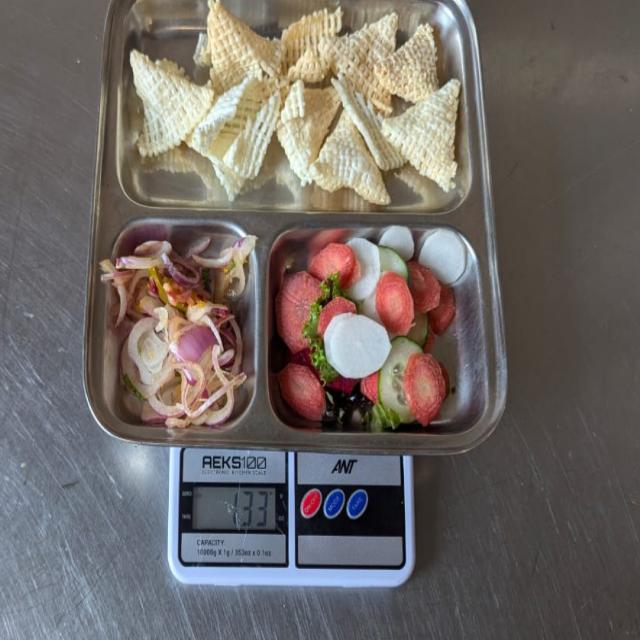Papad: (119, 2, 465, 212)
Salad: (279, 221, 472, 433), (97, 232, 256, 428)
